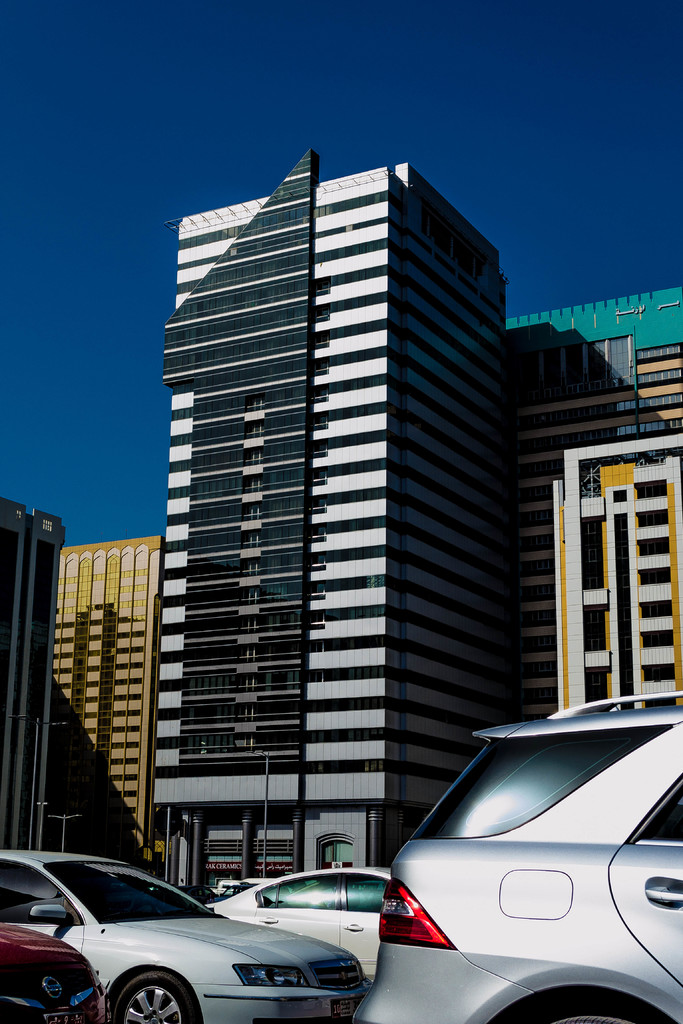Car: (0, 686, 682, 1023)
